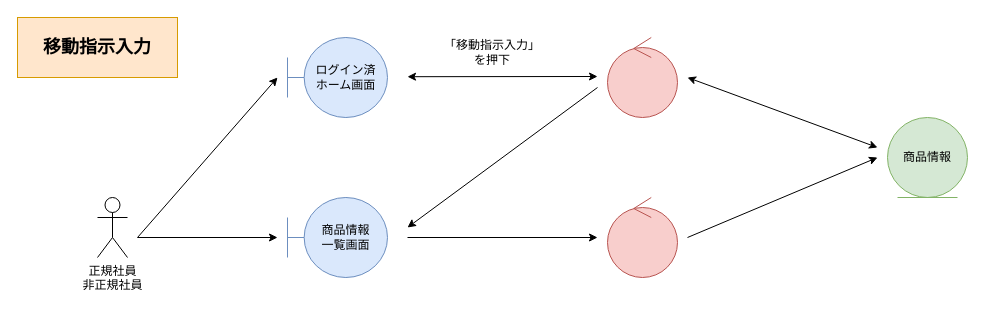
Some shapes in this 985 by 311 pixel diagram are drawn without their labels. The centre of each missing label's shape, as x and y in pixels:
商品情報 を取得する: point (642, 77)
更新する: point (642, 237)
